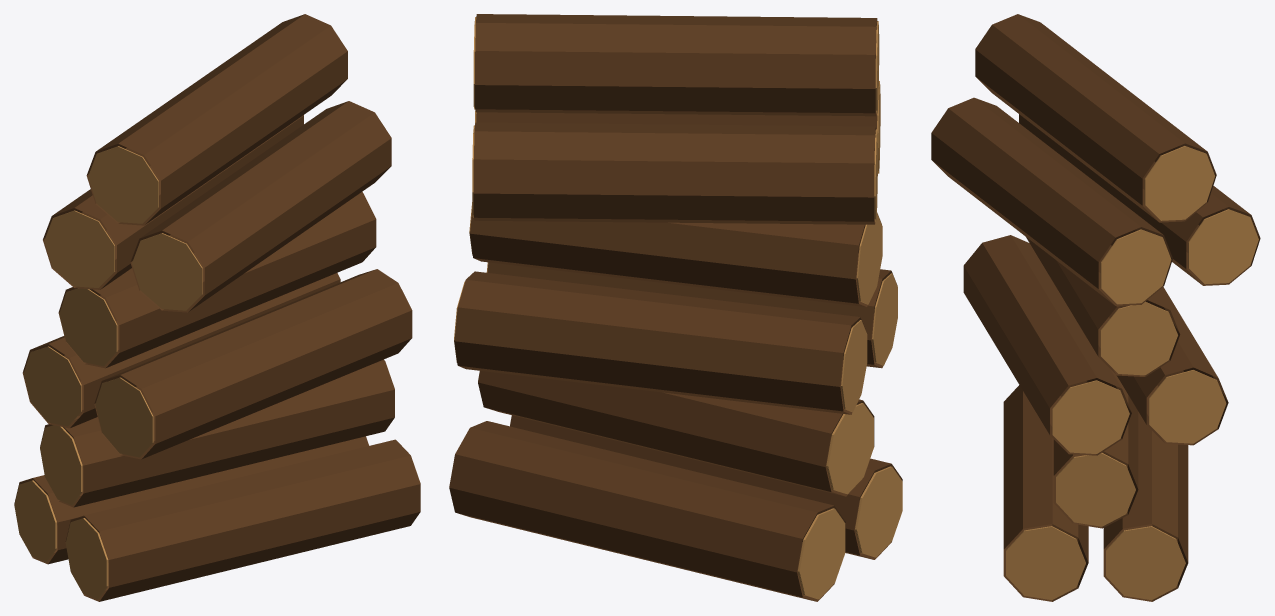
File: Wood_Common.fbx
3 views of the same model, side by side, from view 1: azimuth 30°, elevation 25°; view 2: azimuth 150°, elevation 25°; view 3: azimuth 270°, elevation 25° (orthographic). The views are drawn at different scales.
Parts seen in each view (by area): view 1: Wood_Common__Stack, Wood_Common; view 2: Wood_Common__Stack, Wood_Common; view 3: Wood_Common__Stack, Wood_Common.
Boxes of the visible parts, x1=… form: Wood_Common__Stack: x1=22, y1=14, x2=420, y2=601; Wood_Common: x1=14, y1=360, x2=420, y2=601; Wood_Common__Stack: x1=449, y1=14, x2=901, y2=601; Wood_Common: x1=471, y1=399, x2=902, y2=601; Wood_Common__Stack: x1=931, y1=14, x2=1260, y2=601; Wood_Common: x1=1003, y1=385, x2=1187, y2=601.
Size of the model in its own units: 0.3166 by 0.3965 by 0.264.
